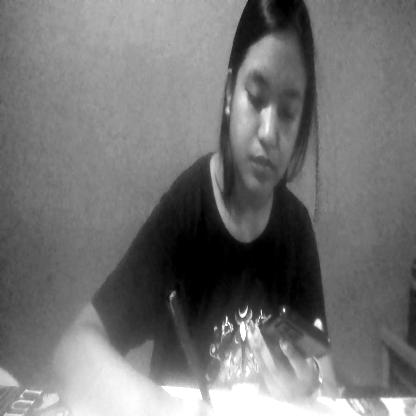Distracted: (218, 5, 327, 227)
